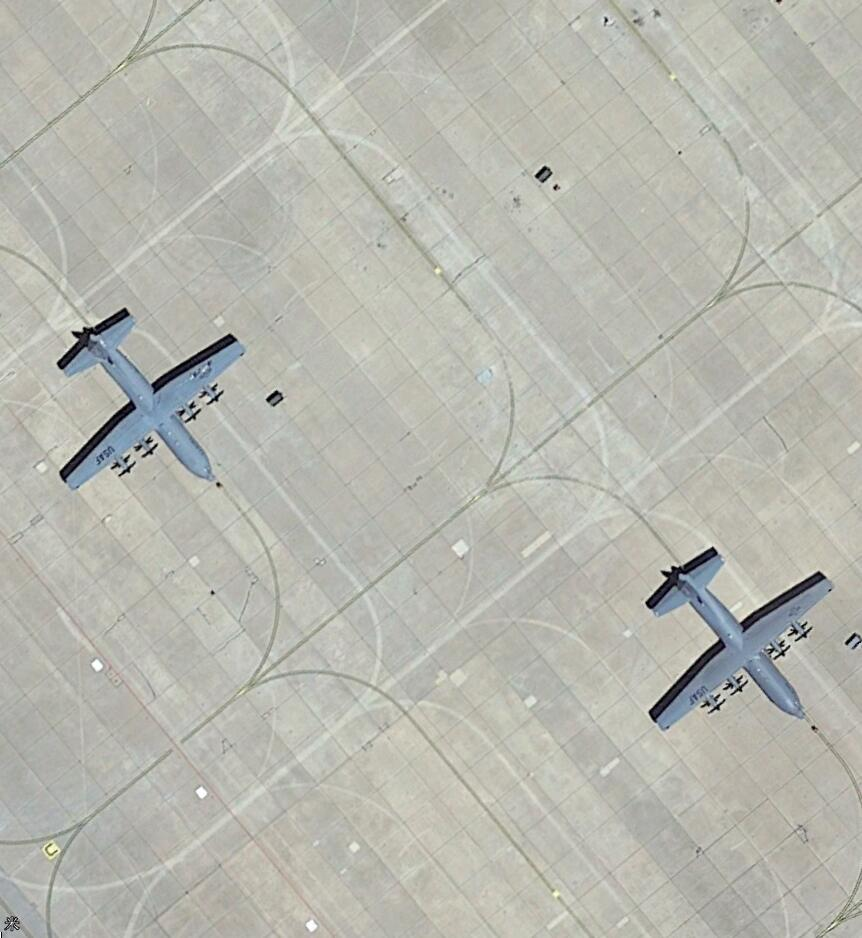A2: (641, 541, 839, 738), (52, 303, 246, 500)
